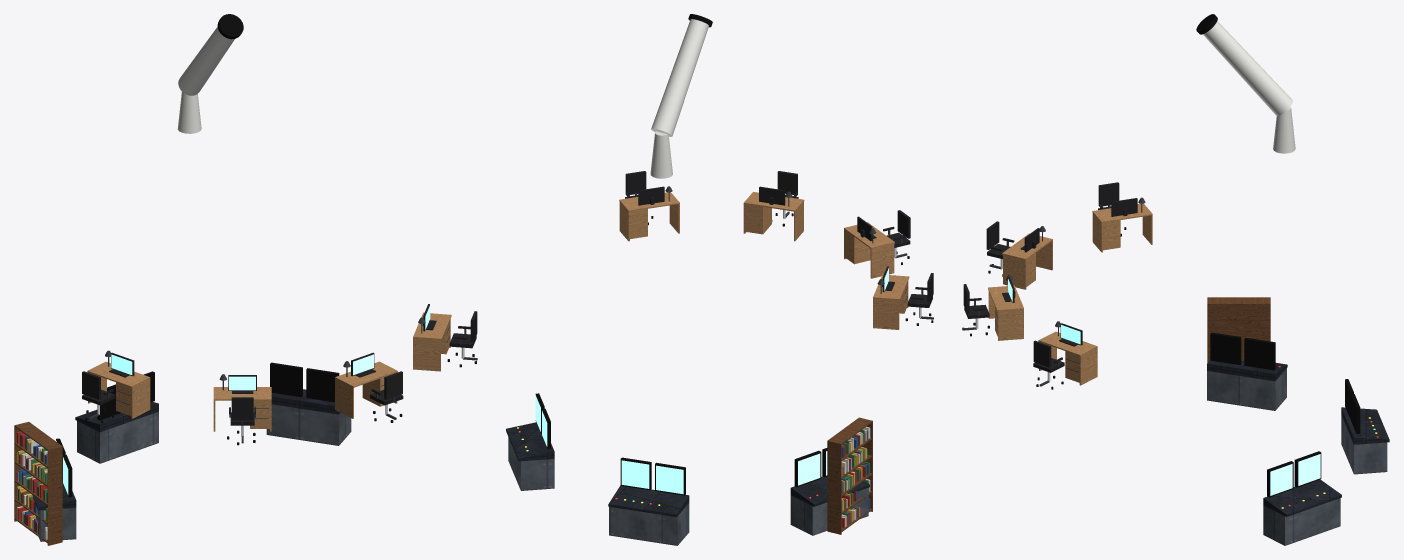
Rendered from i_observatory_dome.gltf.
3 renders of one model, left to right at view 1: azimuth 30°, elevation 25°; view 2: azimuth 150°, elevation 25°; view 3: azimuth 270°, elevation 25°, orthographic. The views are drawn at different scales.
Visible parts, largest first — view 1: I_observatory_dome; view 2: I_observatory_dome; view 3: I_observatory_dome.
Boxes of the visible parts, x1,y1,x2,y2 form: I_observatory_dome: (14,14,477,545); I_observatory_dome: (506,14,933,545); I_observatory_dome: (962,14,1389,545).
Size of the model in its own units: 8.62 by 11.09 by 9.42.
19 materials, 5 textured.
